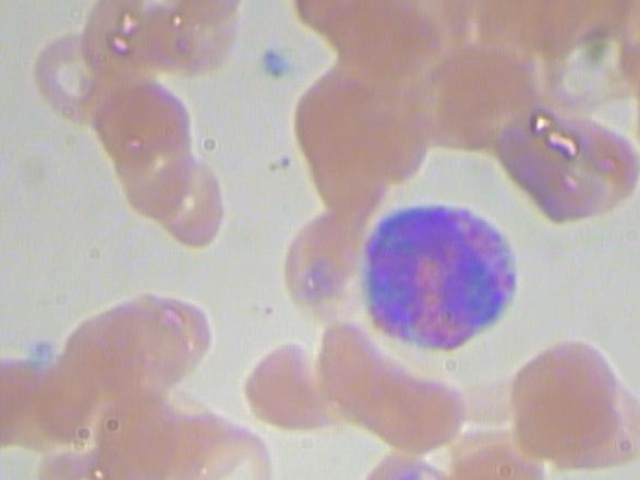Platelets: (254, 45, 292, 88)
RBC: (499, 332, 634, 467), (272, 199, 369, 315), (27, 27, 131, 126), (239, 333, 337, 436), (142, 151, 240, 254)
WBC: (351, 197, 528, 357)
